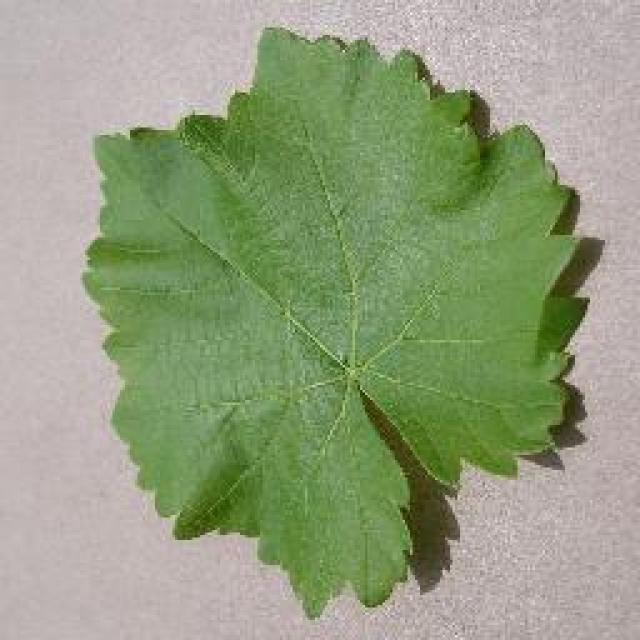Healthy: (80, 20, 601, 606)
